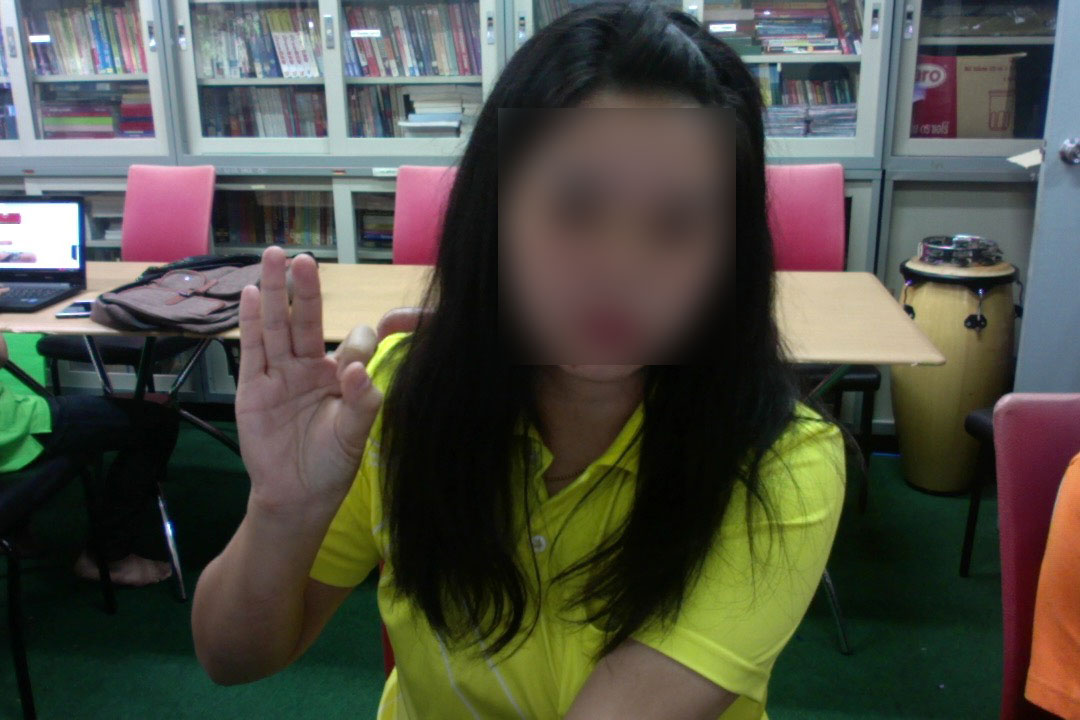for: (227, 242, 387, 507)
